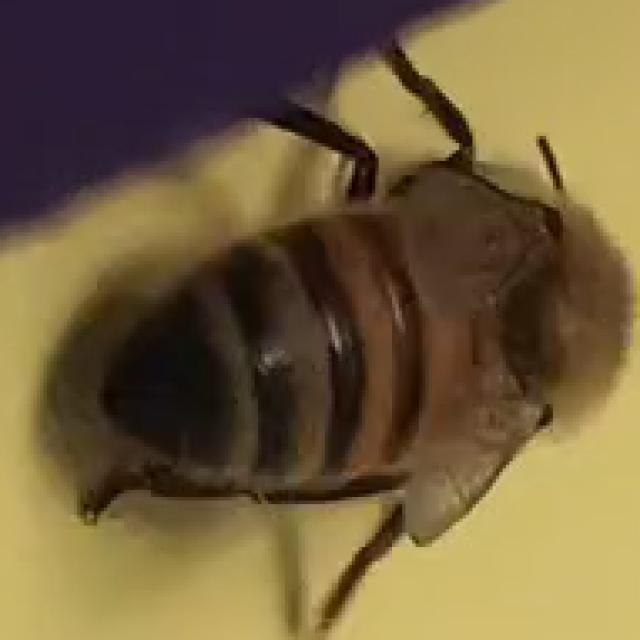honeybee: (84, 75, 640, 544)
